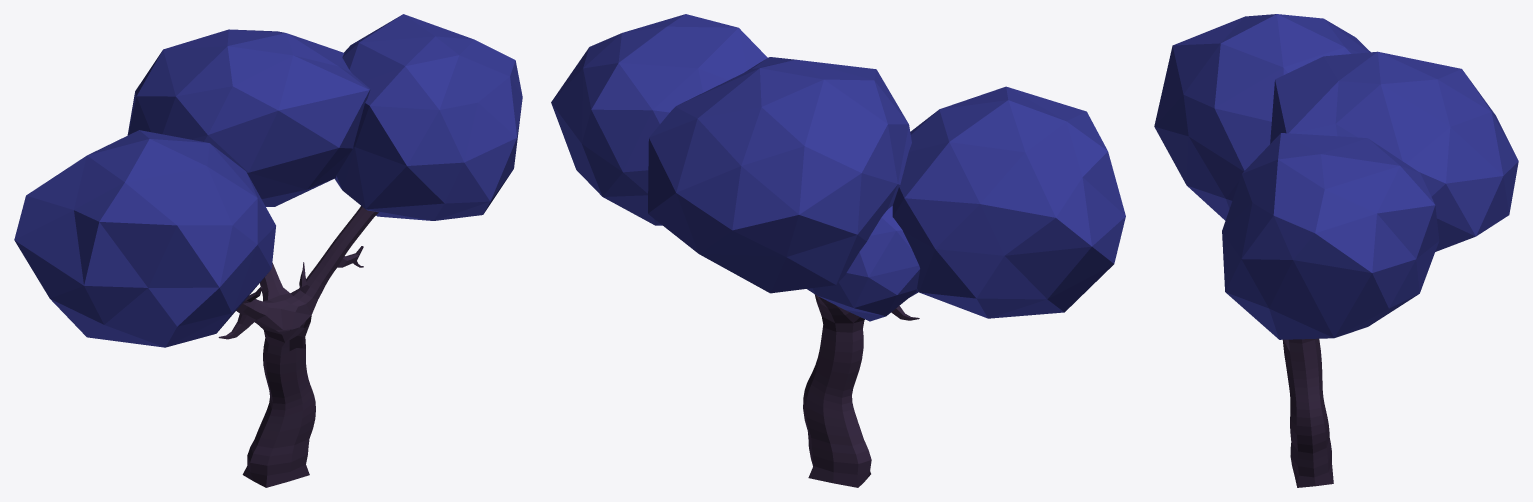
Rendered from creepy_tree (2).fbx.
3 renders of one model, left to right at view 1: azimuth 30°, elevation 25°; view 2: azimuth 150°, elevation 25°; view 3: azimuth 270°, elevation 25°, orthographic. The views are drawn at different scales.
Parts seen in each view (by area): view 1: Icosphere.002; view 2: Icosphere.002; view 3: Icosphere.002.
Part boxes in pixels (box(x1,y1,x2,y2)): Icosphere.002: box(14, 14, 522, 487); Icosphere.002: box(551, 14, 1125, 487); Icosphere.002: box(1154, 14, 1518, 487).
Bounding box in the file's own units: 526 × 411 × 327.
